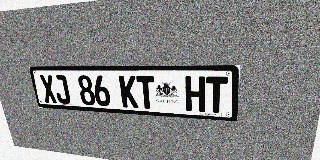6: (92, 75, 111, 107)
8: (77, 75, 96, 106)
H: (185, 76, 205, 112)
J: (52, 75, 71, 104)
K: (119, 76, 138, 108)
T: (206, 76, 228, 113), (136, 76, 156, 109)
X: (39, 75, 58, 103)
